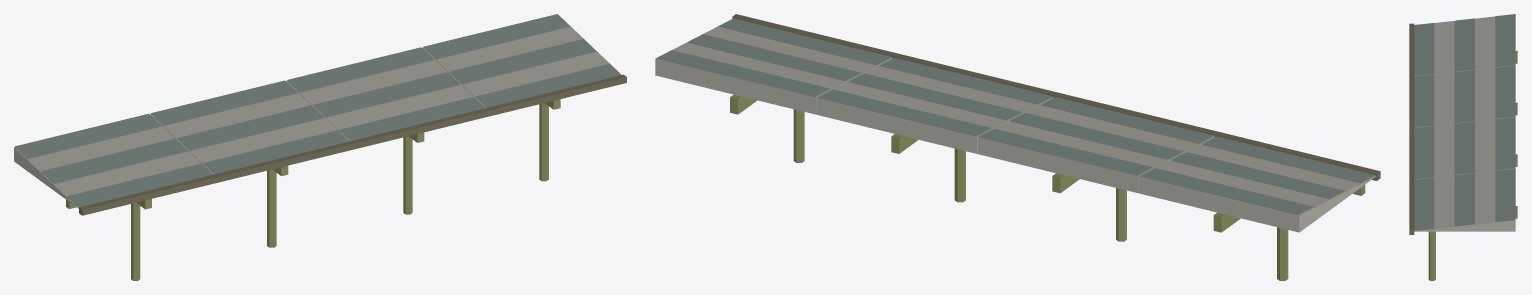
Rendered from SM_marquesina_v4_LOD1.fbx.
3 views of the same model, side by side, from view 1: azimuth 30°, elevation 25°; view 2: azimuth 150°, elevation 25°; view 3: azimuth 270°, elevation 25° (orthographic). The views are drawn at different scales.
Parts seen in each view (by area): view 1: SM_bloques.marquesina_v4_LOD1; view 2: SM_bloques.marquesina_v4_LOD1; view 3: SM_bloques.marquesina_v4_LOD1.
Part boxes in pixels (bbox=[...]): SM_bloques.marquesina_v4_LOD1: bbox=[14, 14, 626, 280]; SM_bloques.marquesina_v4_LOD1: bbox=[655, 14, 1380, 280]; SM_bloques.marquesina_v4_LOD1: bbox=[1409, 14, 1517, 280].
Bounding box in the file's own units: 24 × 4.63 × 5.32.
